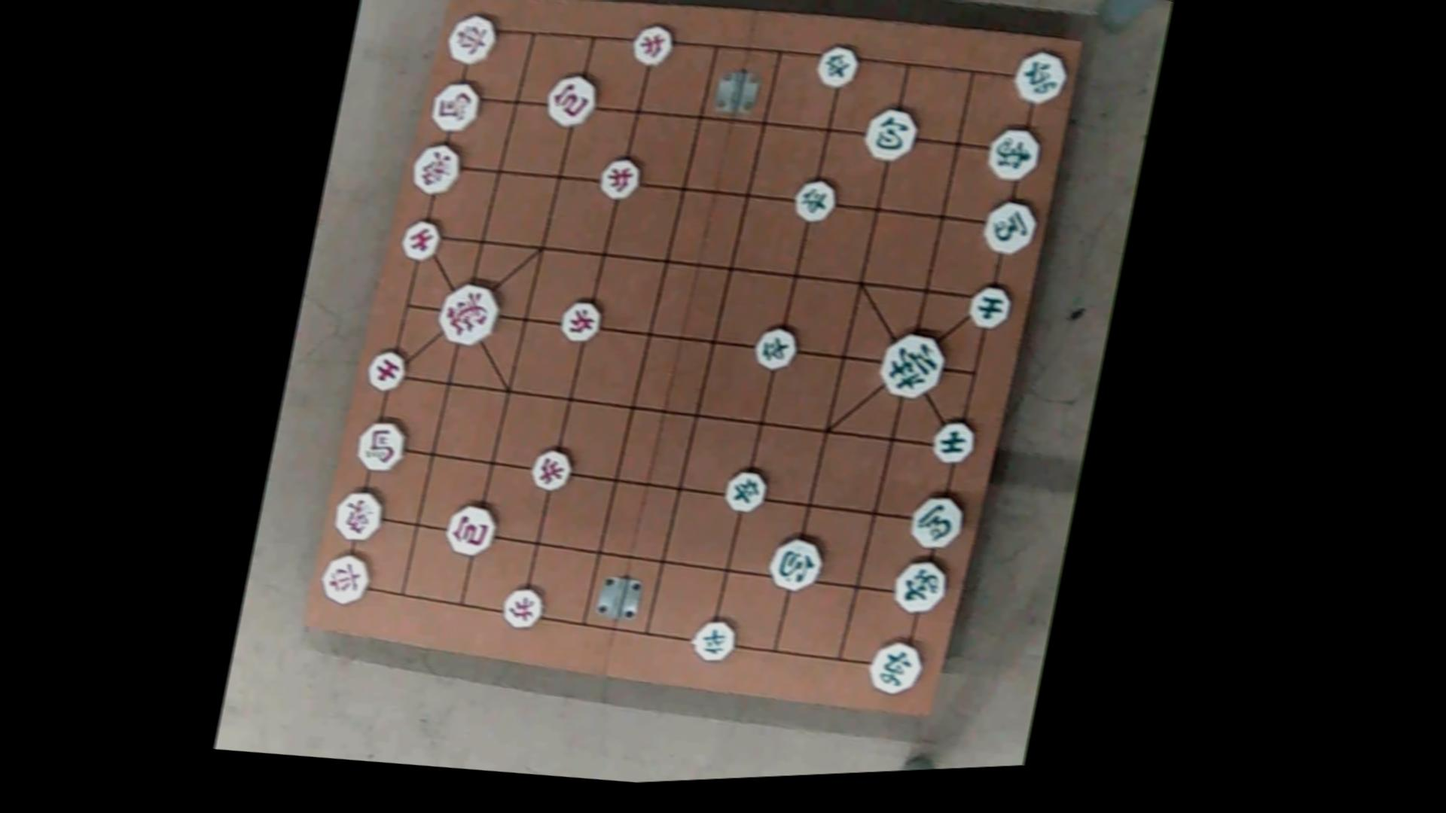cha_green: (862, 637, 926, 696), (1010, 45, 1069, 108)
cha_red: (446, 10, 500, 70), (319, 546, 373, 604)
jol_green: (723, 464, 770, 515), (691, 615, 737, 665), (753, 321, 798, 372), (792, 173, 837, 224), (817, 41, 862, 90)
jol_red: (596, 153, 642, 202), (502, 580, 547, 630), (530, 443, 575, 492), (630, 20, 673, 68), (560, 296, 603, 343)
ma_green: (908, 490, 967, 553), (981, 194, 1039, 257)
ma_red: (355, 414, 410, 473), (427, 79, 481, 137)
po_green: (862, 100, 919, 161), (769, 532, 825, 593)
po_red: (445, 500, 499, 559), (543, 72, 597, 131)
sa_green: (930, 418, 977, 469), (966, 282, 1014, 331)
sa_red: (367, 343, 410, 390), (401, 215, 442, 263)
sang_green: (984, 123, 1043, 183), (892, 553, 950, 614)
sang_red: (410, 139, 465, 199), (332, 484, 386, 544)
wang_green: (879, 321, 950, 397)
wang_red: (438, 281, 502, 349)
